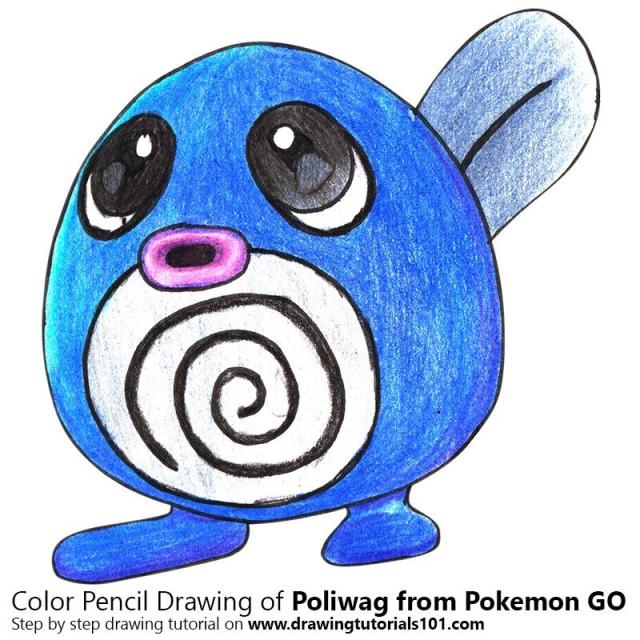Poliwag: (57, 27, 504, 589)
